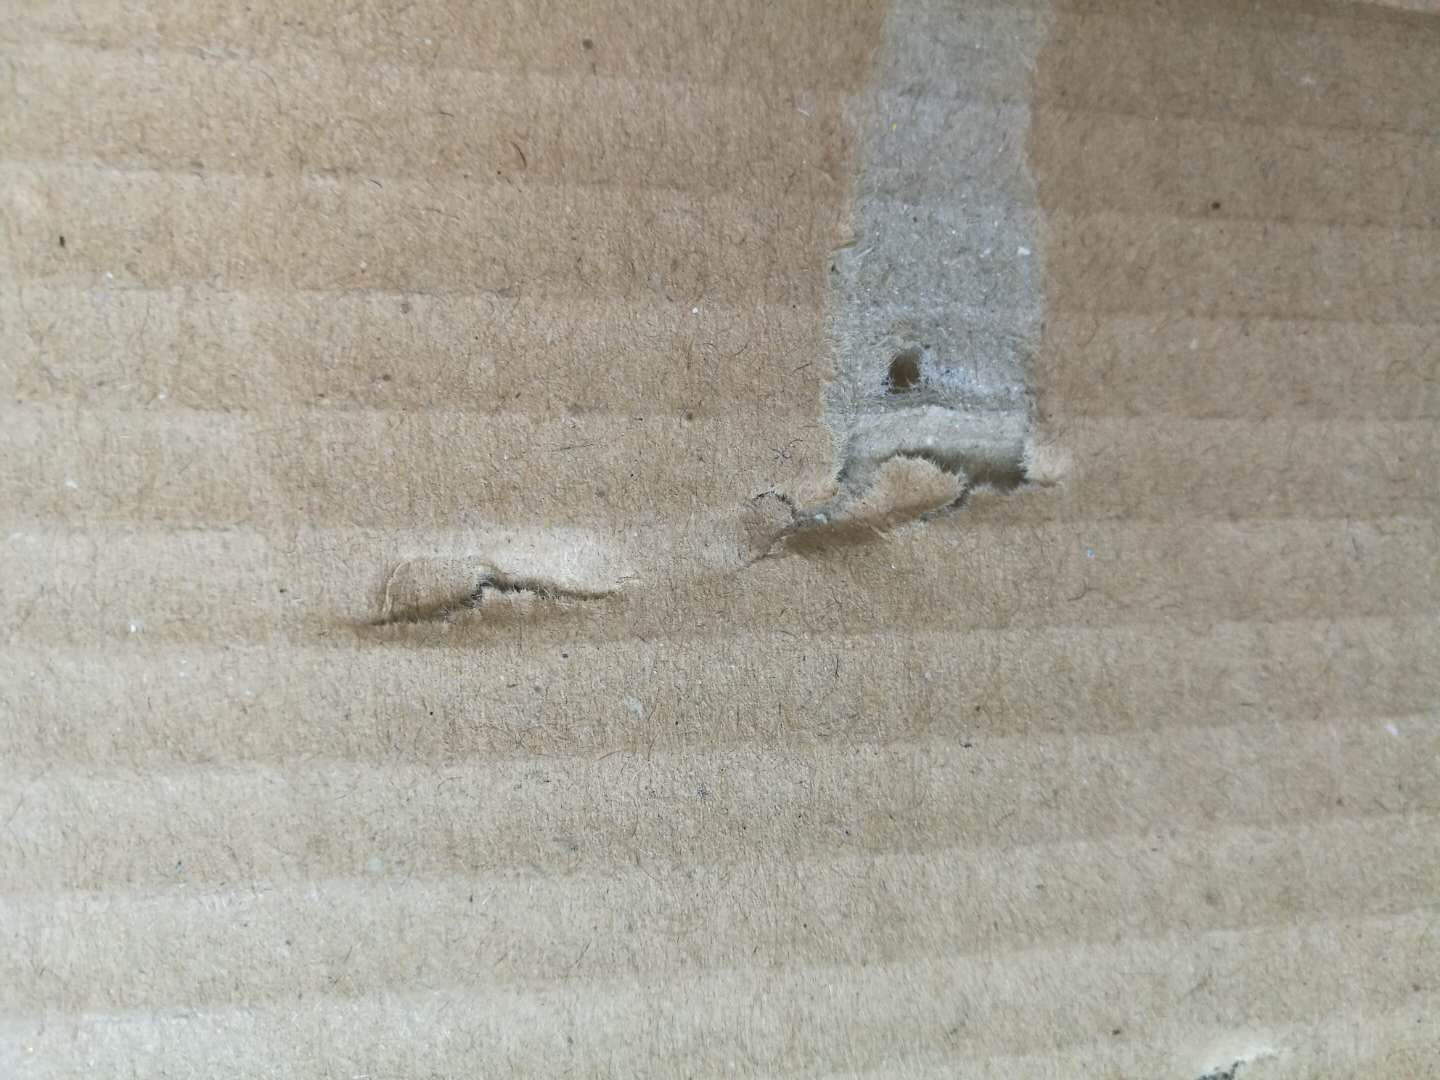defect: (282, 1, 1150, 656), (1164, 1031, 1304, 1080)
